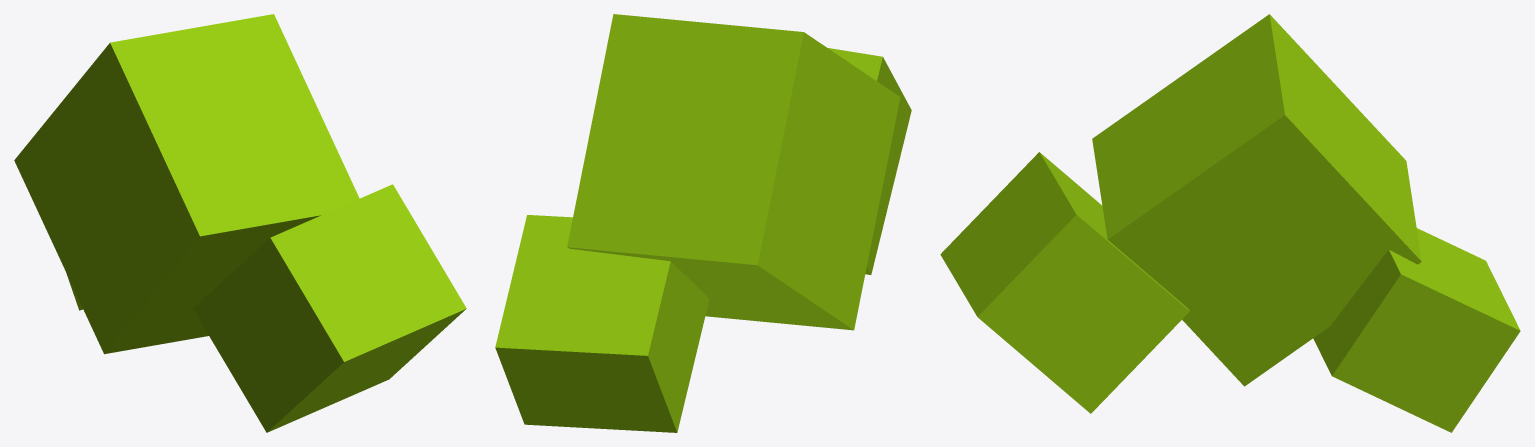
The model's file is tree_big_3_boxy.fbx.
The picture shows the model from 3 angles, left to right: view 1: azimuth 30°, elevation 25°; view 2: azimuth 150°, elevation 25°; view 3: azimuth 270°, elevation 25°; orthographic projection. The views are drawn at different scales.
Parts seen in each view (by area): view 1: tree_big_3_boxy; view 2: tree_big_3_boxy; view 3: tree_big_3_boxy.
Boxes of the visible parts, bbox=[...] form: tree_big_3_boxy: bbox=[14, 14, 466, 432]; tree_big_3_boxy: bbox=[495, 14, 911, 432]; tree_big_3_boxy: bbox=[940, 14, 1520, 432].
Size of the model in its own units: 92.79 by 130 by 203.
